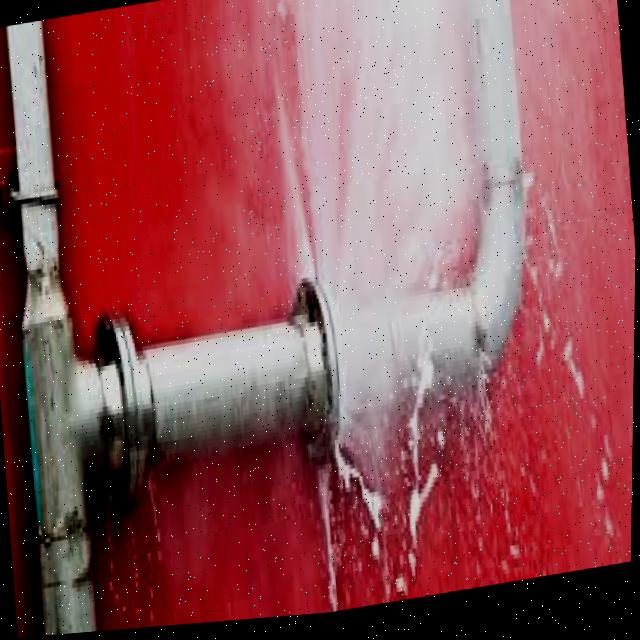corrosion: (213, 130, 460, 561)
